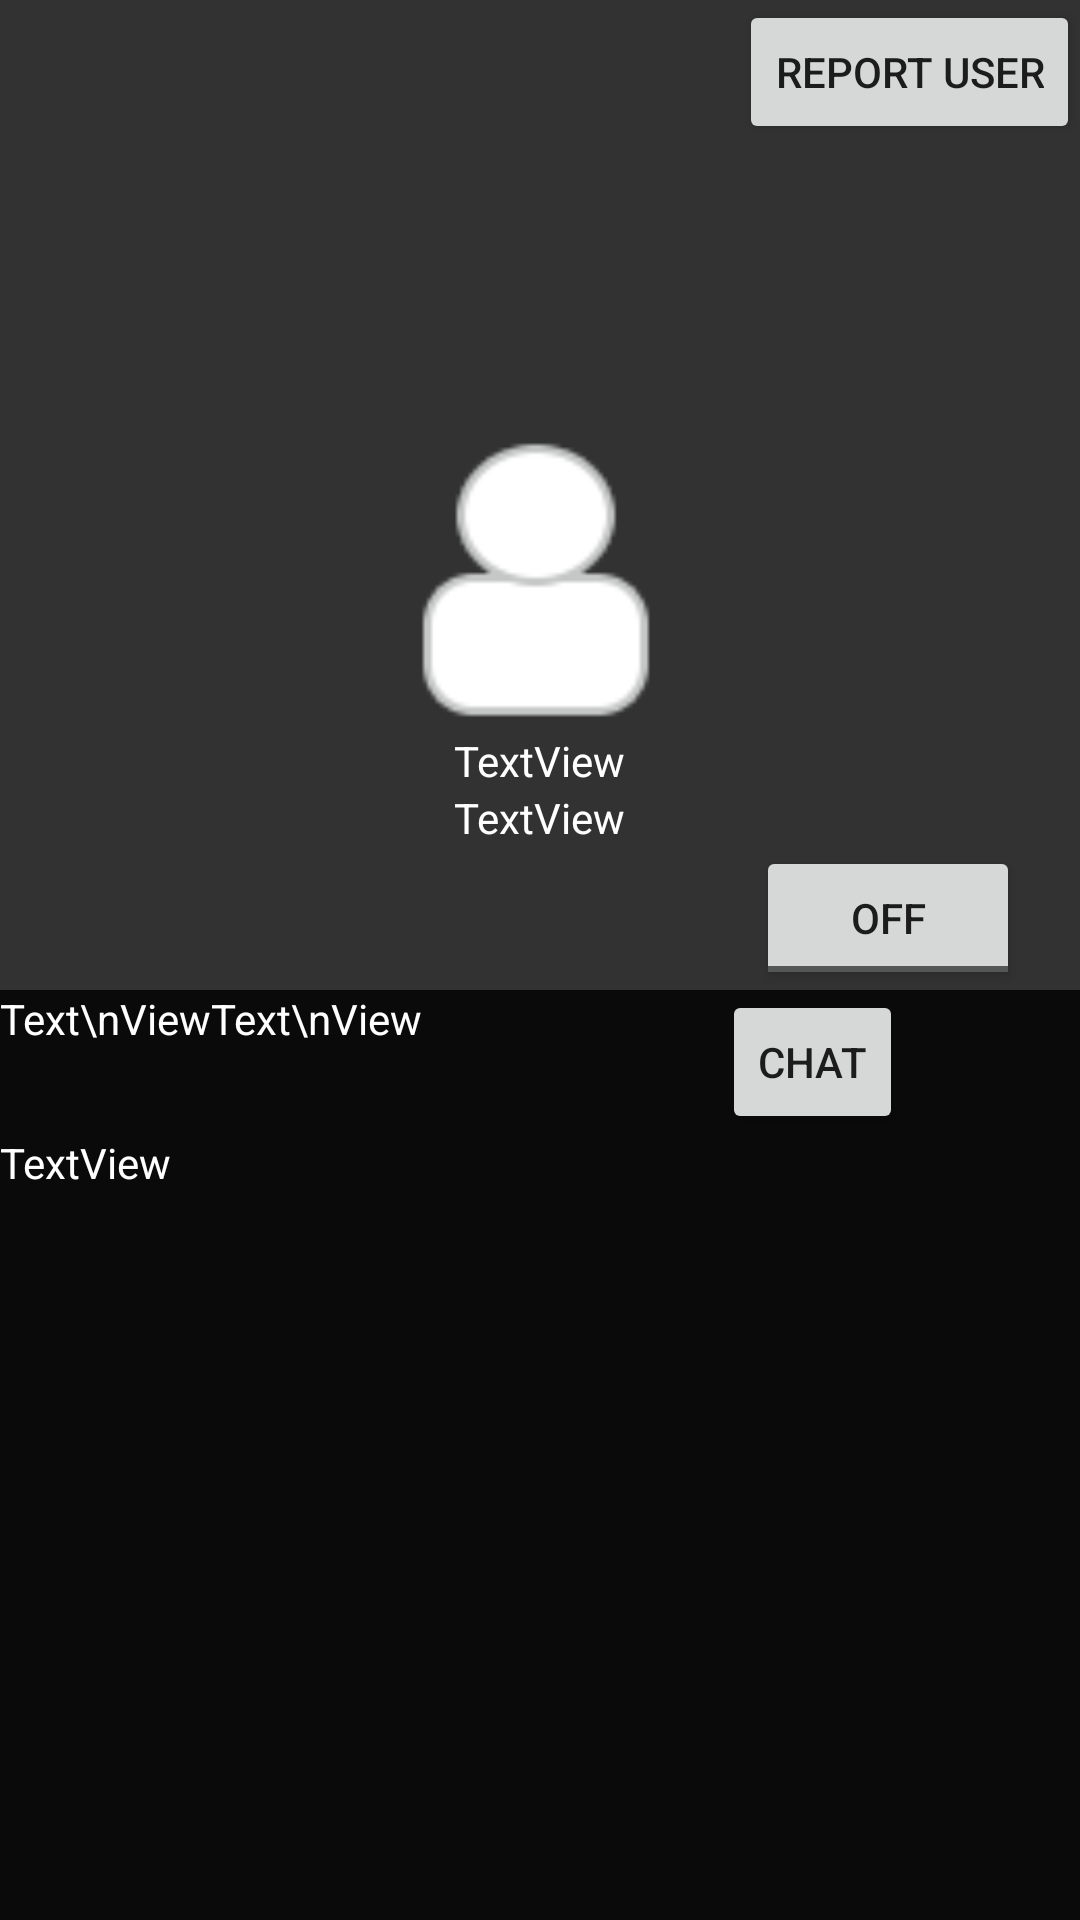

Where to tap for icons on this 1080w x 1920h app screen, as point (x, y):
profile: point (536, 580)
